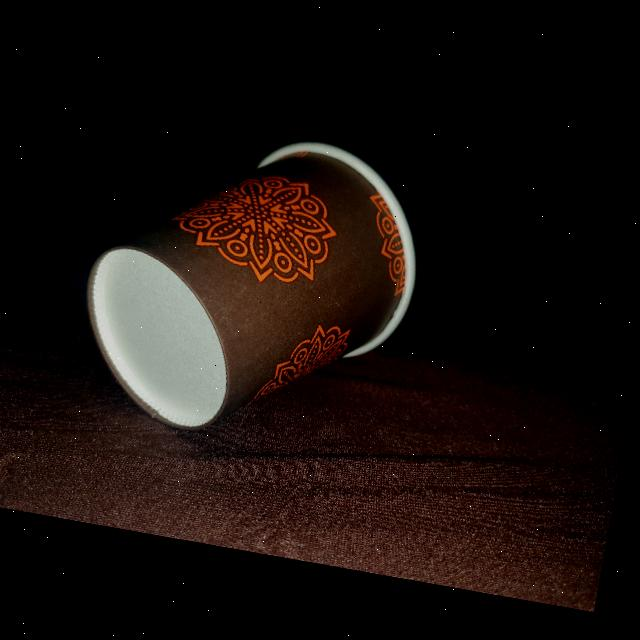trash: (53, 98, 446, 487)
